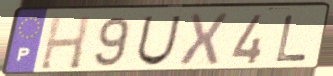4: (228, 12, 265, 66)
9: (91, 16, 133, 69)
H: (38, 14, 94, 71)
L: (273, 13, 310, 64)
U: (134, 14, 184, 67)
X: (176, 12, 231, 69)
